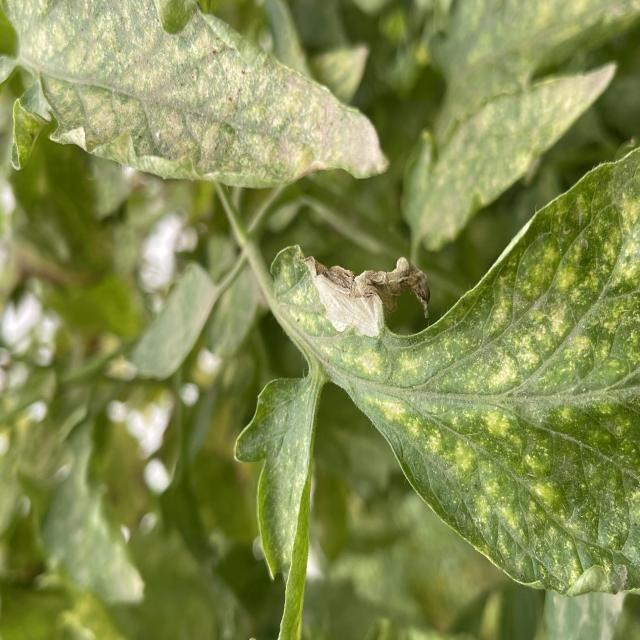Tuta absoluta: (301, 255, 430, 338)
